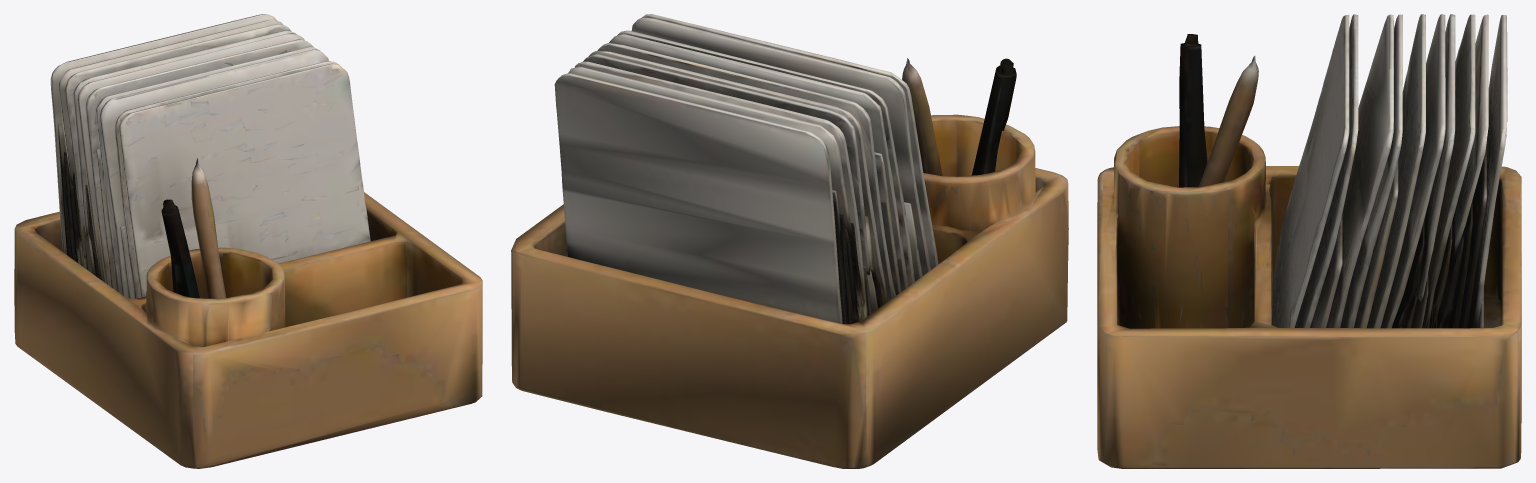
File: organizer-lite.glb
3 renders of one model, left to right at view 1: azimuth 30°, elevation 25°; view 2: azimuth 150°, elevation 25°; view 3: azimuth 270°, elevation 25°, orthographic. The views are drawn at different scales.
Visible parts, largest first — view 1: node_0; view 2: node_0; view 3: node_0.
Boxes of the visible parts, x1=… form: node_0: x1=14, y1=14, x2=482, y2=468; node_0: x1=511, y1=14, x2=1068, y2=468; node_0: x1=1097, y1=14, x2=1521, y2=468.
Size of the model in its own units: 0.7371 by 0.6287 by 0.7726.
Materials: 1 (1 with a texture image).
